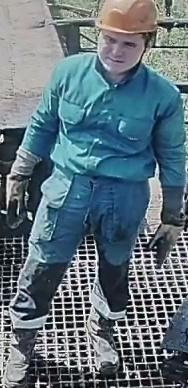gloves: (147, 221, 184, 270), (4, 172, 31, 229)
helmet: (95, 0, 158, 45)
vest: (38, 51, 182, 186)
